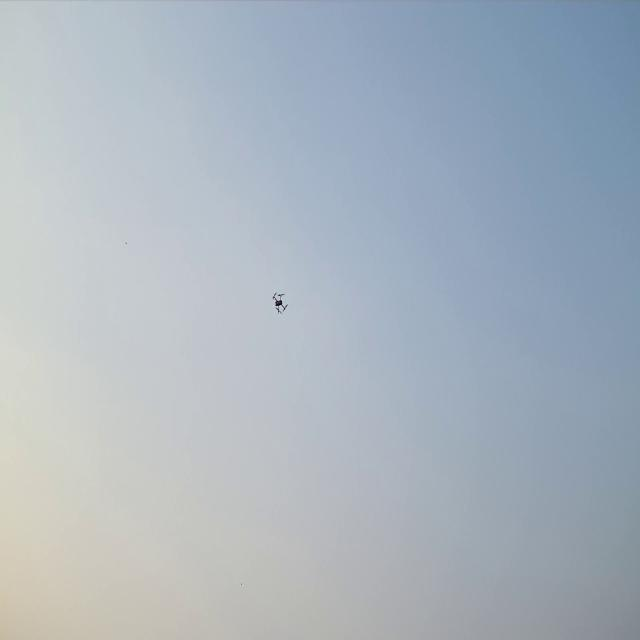UAV: (271, 291, 290, 316)
